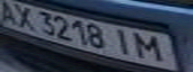1: (69, 18, 87, 46)
2: (48, 14, 72, 43)
3: (30, 9, 57, 37)
8: (84, 21, 109, 51)
A: (0, 0, 21, 26)
I: (109, 27, 136, 56)
M: (130, 31, 169, 64)
X: (6, 2, 39, 29)
